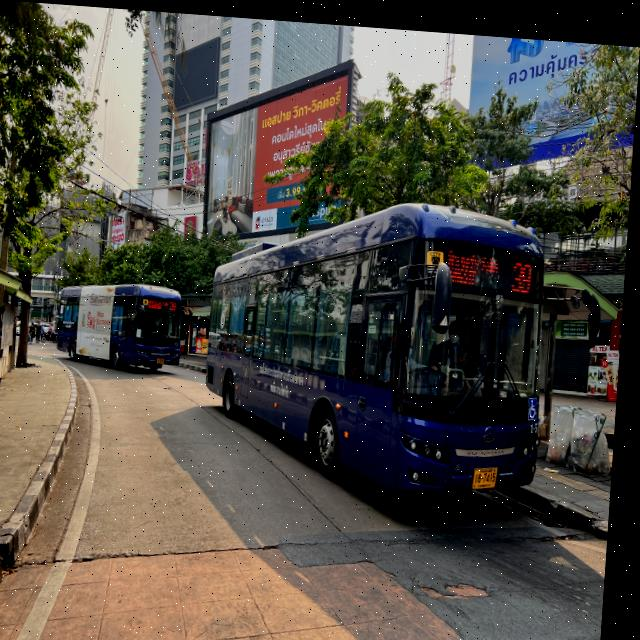Bus Line Number: (511, 248, 541, 289), (173, 299, 181, 308)
Bus Side Number: (534, 412, 545, 426), (179, 345, 185, 348)
Destination Sign: (446, 238, 505, 285), (151, 296, 173, 308)
TSB-Bus: (199, 178, 559, 529), (58, 273, 192, 375)
